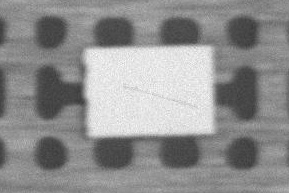DIE_CRACK: (186, 57, 289, 71)
